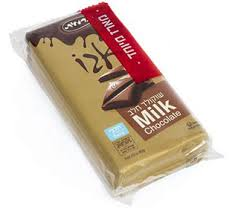Chocolate: (21, 5, 232, 195)
